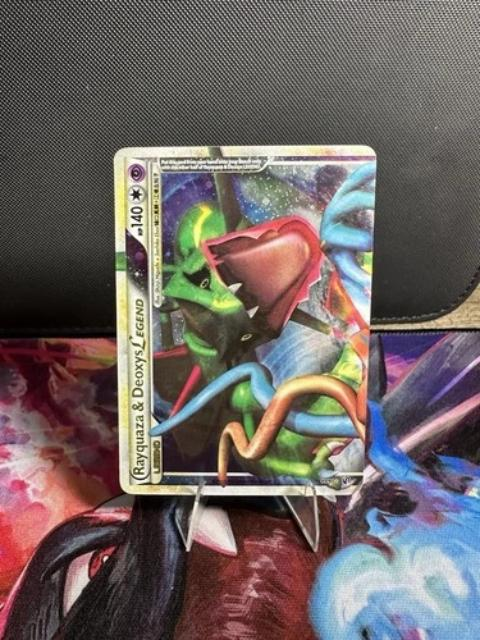Card: (109, 142, 379, 497)
Name: (127, 289, 152, 478)
